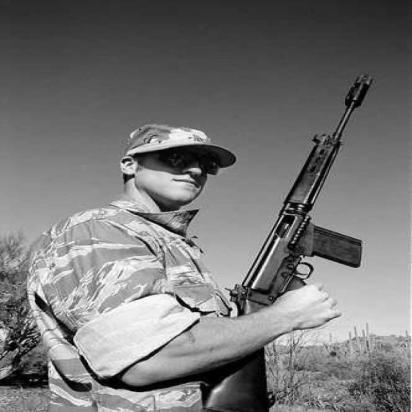Gun: (188, 51, 398, 412)
